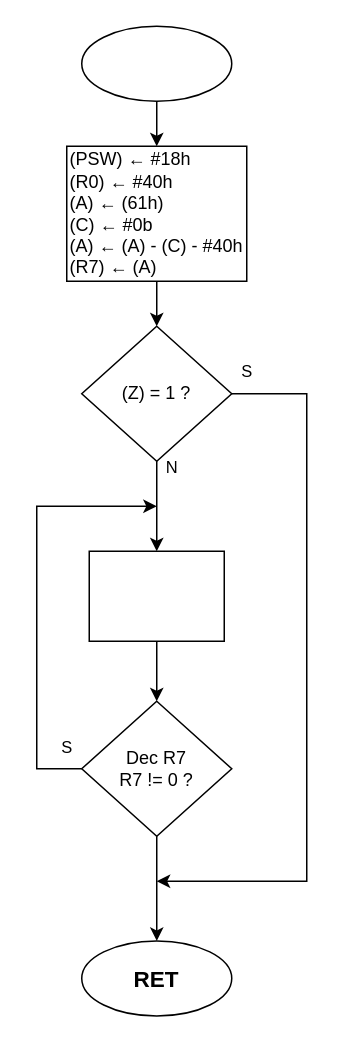
Image size: 345x1043. Some labels were removed from this diagram. Each missing label, with the centre of its shape:
"(62h) ← ((R0)) LCALL XYP (PSW) ← #18h (R0) ← (R0) + 1" belongs at (156,595).
"SHIPS_ON" belongs at (156,63).
